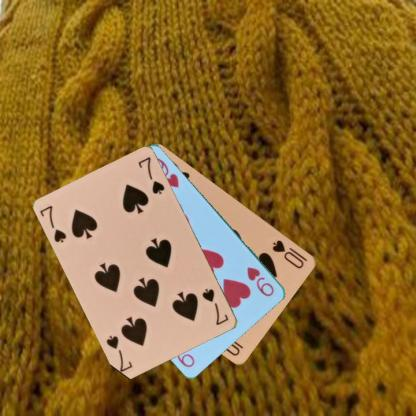10s: (270, 237, 309, 270)
7s: (37, 203, 68, 244), (200, 286, 230, 326)
9h: (244, 264, 276, 298)
